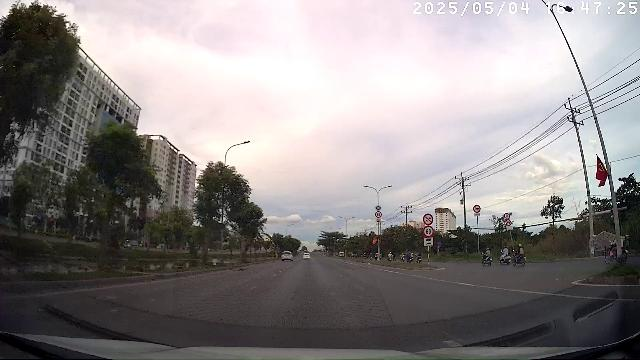127-toc-do-toi-da-60: (422, 226, 433, 236)
